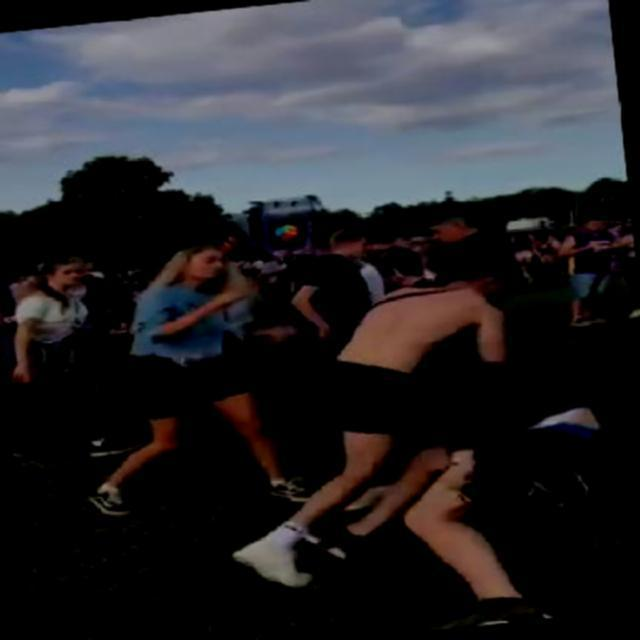fight: (229, 238, 620, 638)
